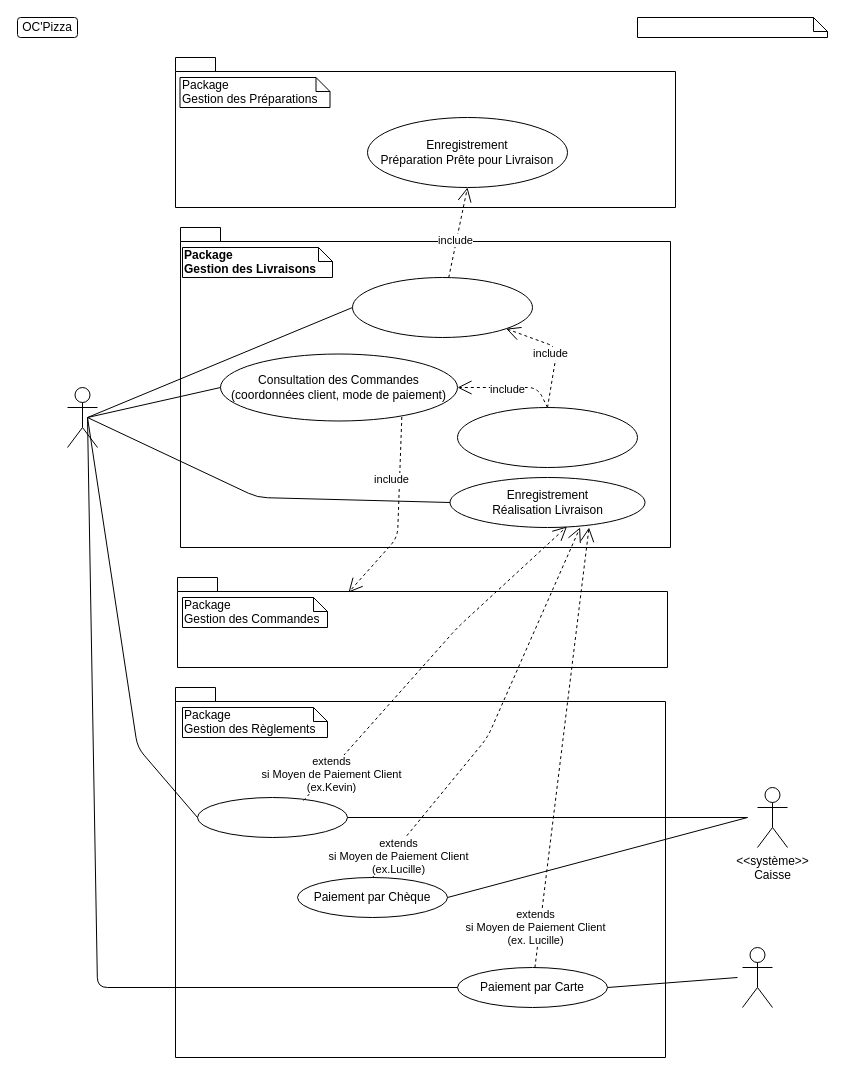
The diagram is 845 pixels wide and 1075 high, and some of its shapes have lost their labels. Each missing label, with the centre of its shape:
"<<système>> Organisme Financier" goes at (757,977).
"Consultation des Préparations" goes at (442,307).
"Diagramme de Cas d'Utilisation" goes at (732,27).
"Livreur" goes at (82,417).
"Paiement en Espèces" goes at (272,817).
"Préparation des Livraisons" goes at (547,437).
